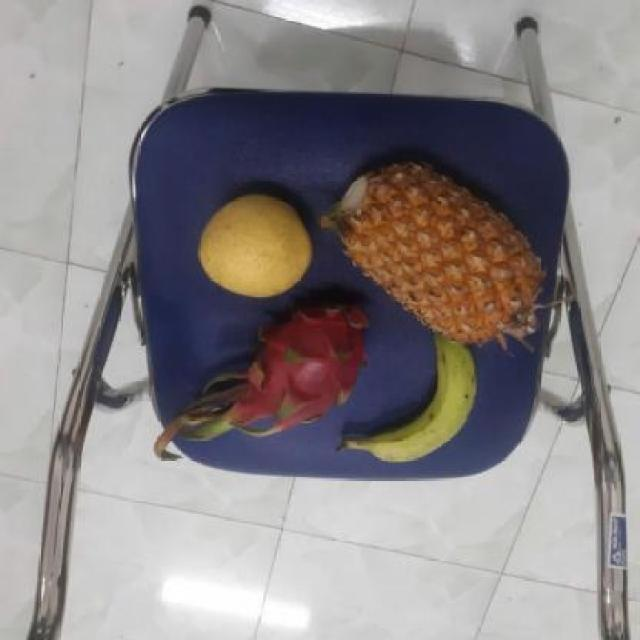banana: (351, 335, 485, 466)
dragon fruit: (230, 295, 375, 433)
pear: (195, 189, 320, 294)
pineapple: (326, 163, 546, 349)
